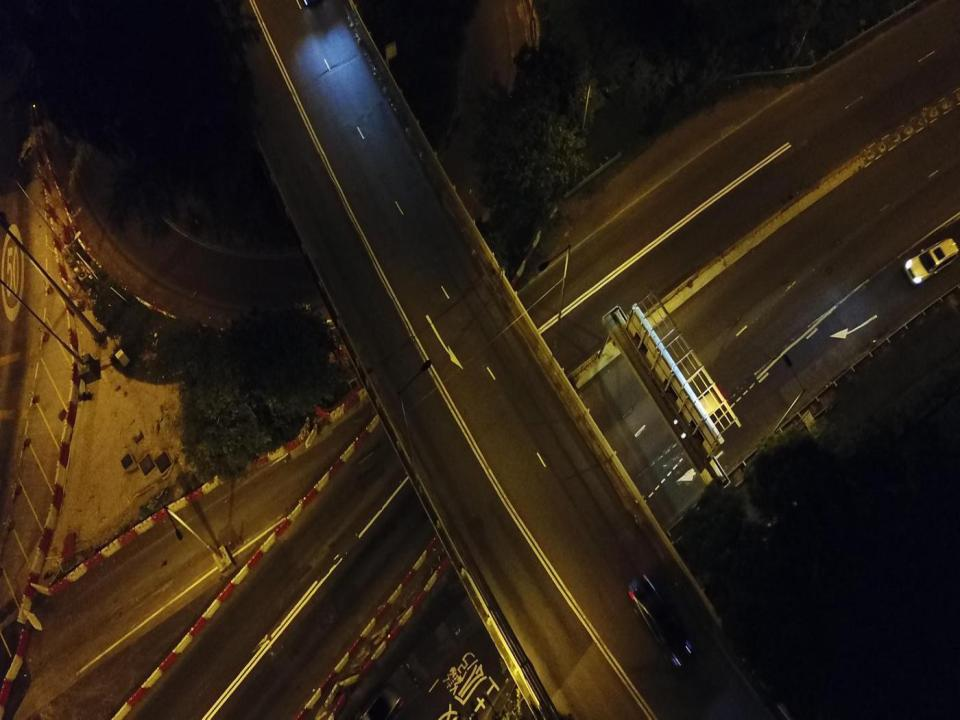car: (627, 568, 691, 669), (905, 227, 957, 287), (356, 684, 404, 719)
